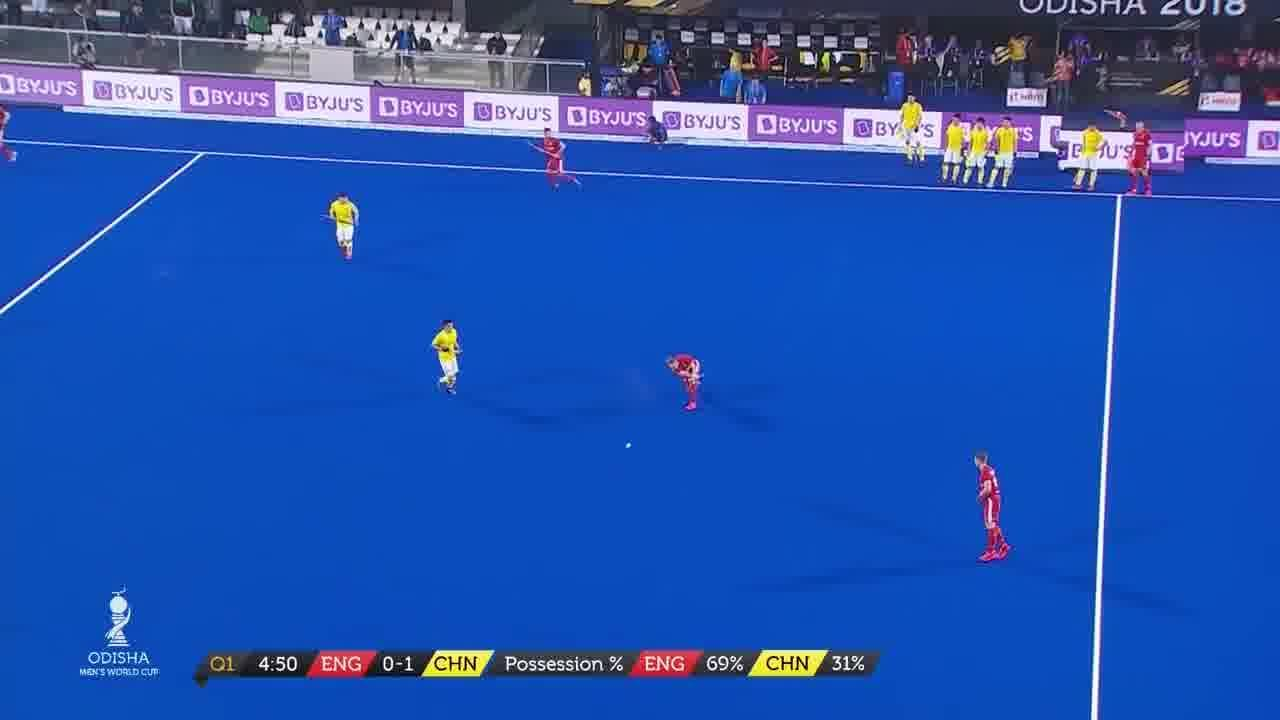ball: (622, 440, 638, 456)
